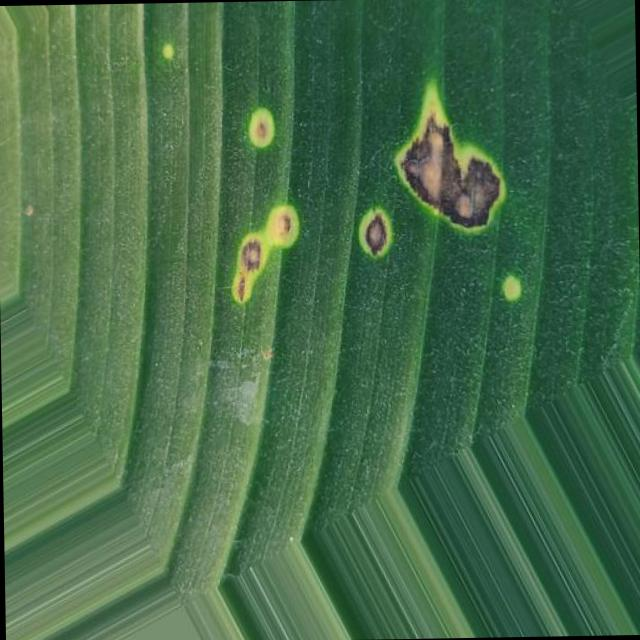Banana_Black_Sigatoka: (212, 84, 555, 324)
